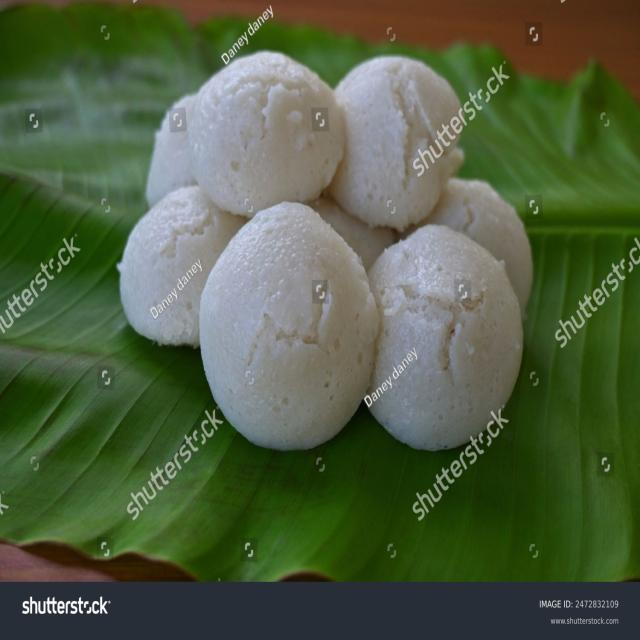IDLI: (200, 199, 373, 446), (370, 219, 519, 455), (152, 53, 344, 205), (115, 189, 256, 344), (334, 53, 465, 218), (438, 173, 536, 308), (324, 198, 414, 263)
